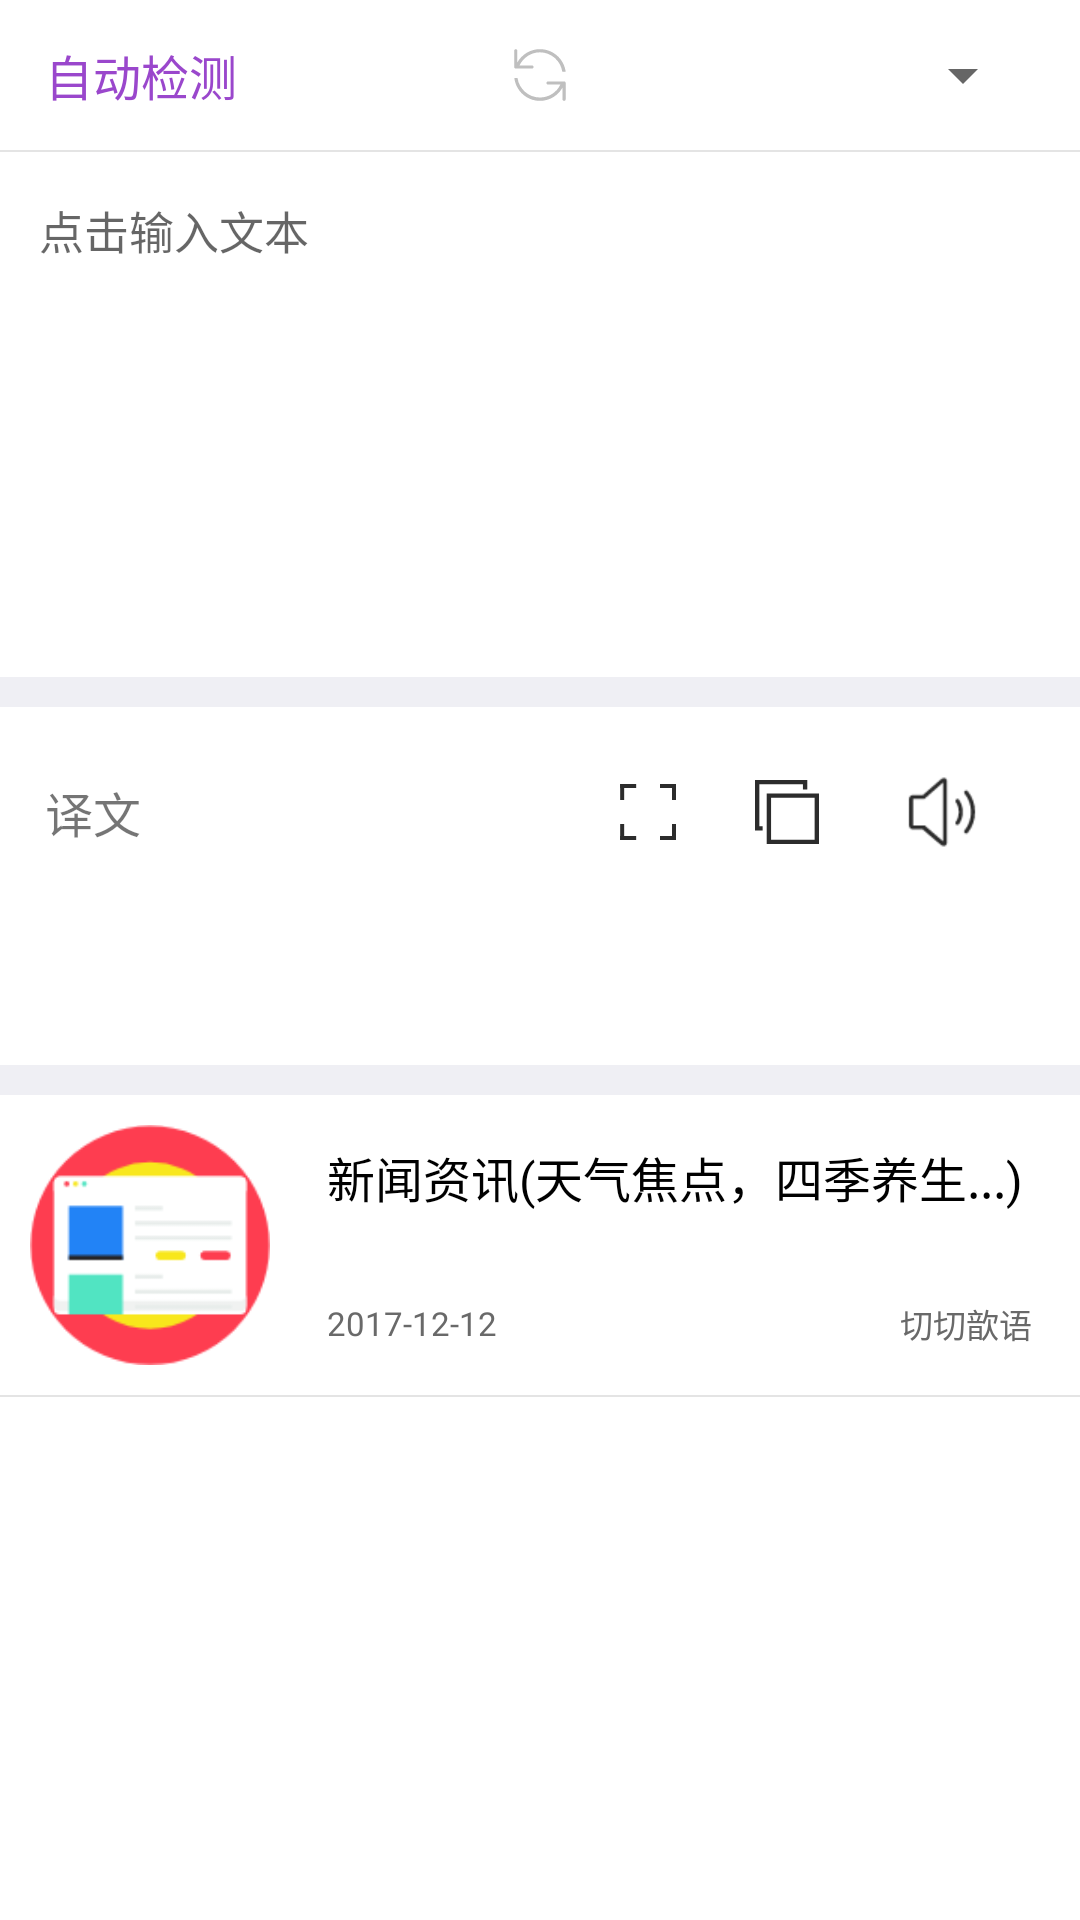

Icons on this 1080w x 1920h Android screen, each with its box as BBox(x1, y1, x2, y2):
full screen: BBox(620, 784, 676, 840)
news: BBox(30, 1125, 270, 1365)
replication: BBox(755, 780, 819, 844)
sound: BBox(908, 777, 976, 847)
transform: BBox(514, 49, 566, 101)
